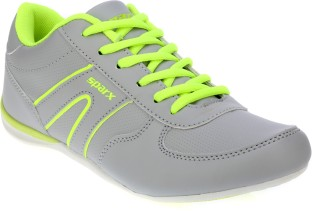Shoes: (4, 3, 312, 208)
